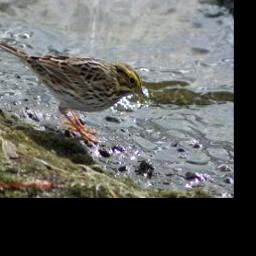Sparrow: (0, 39, 147, 144)
